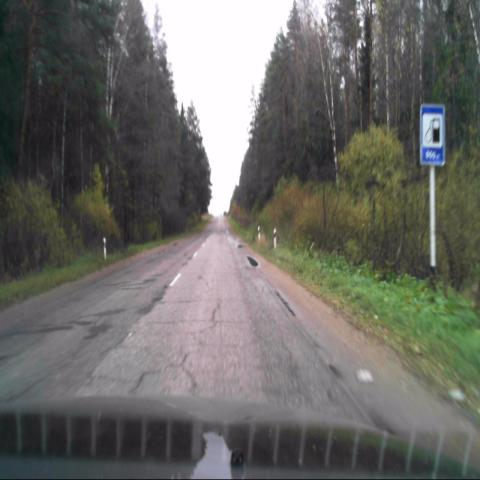7_3: (419, 103, 447, 164)
